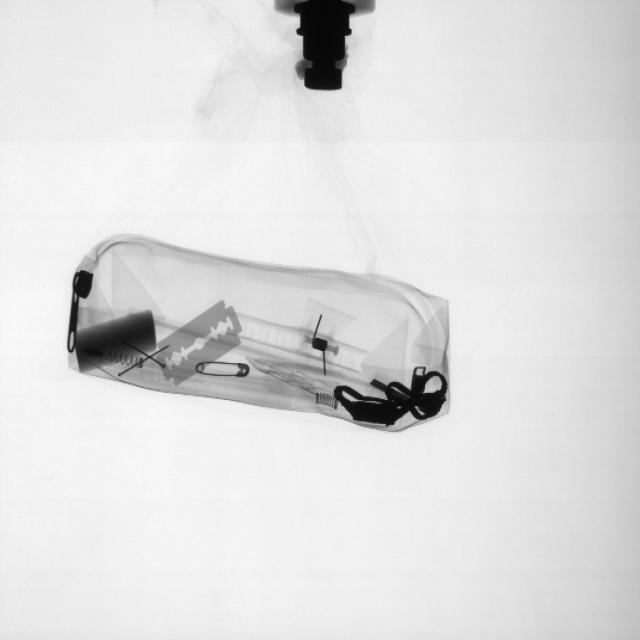BLADE: (158, 296, 245, 386)
